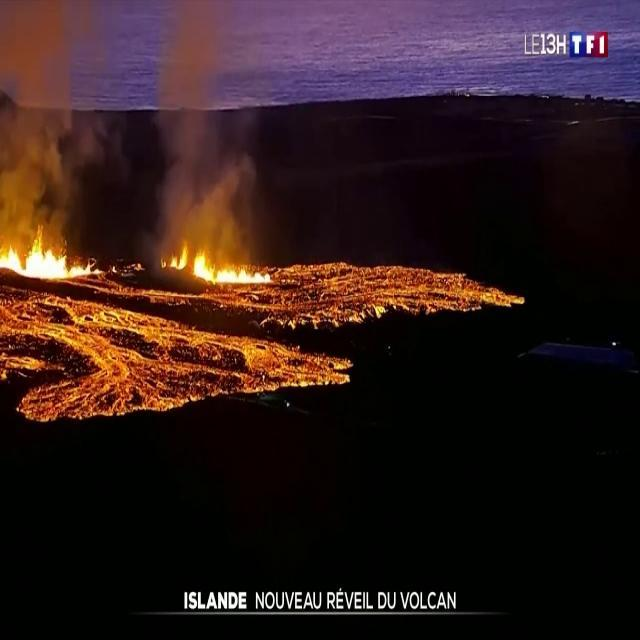Fire: (0, 219, 102, 282), (160, 230, 266, 288)
Smoke: (0, 1, 276, 242)
